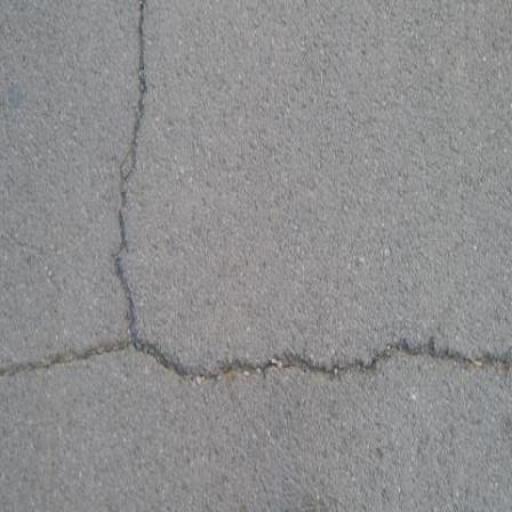spalling: (4, 323, 504, 397), (97, 10, 158, 335)
